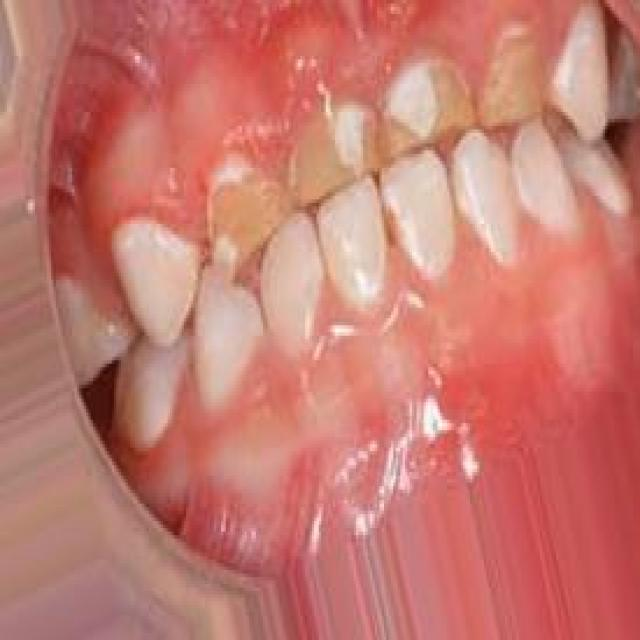caries: (378, 54, 474, 169), (291, 100, 380, 222), (205, 160, 291, 284), (474, 19, 548, 143)
